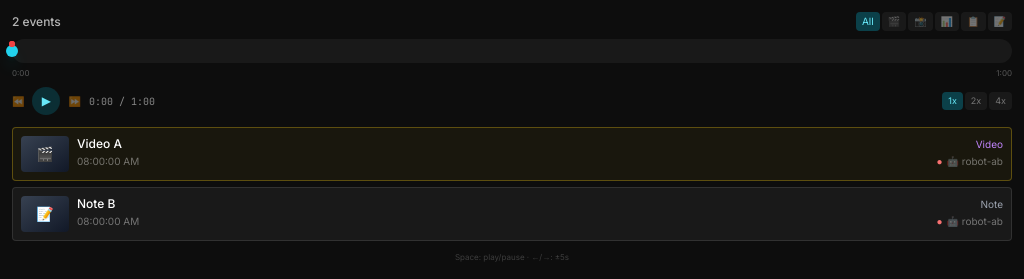
Test: ReplayReviewModule › filters by type
// Click snapshot filter (📝 for note)
Click the button "📝": x=1000, y=22 [988, 12, 1012, 31]
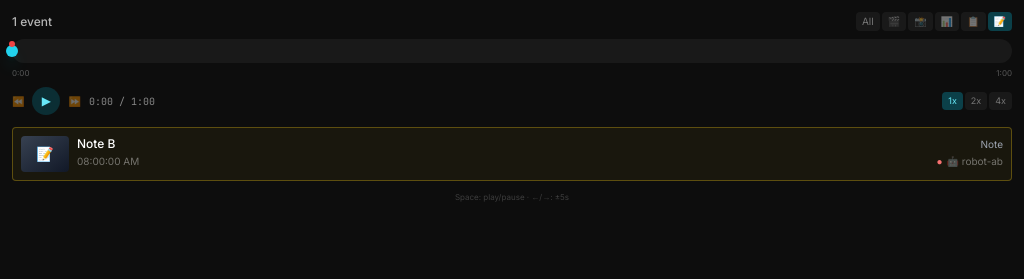
Expected: the text "Note B" is shown, [77, 136, 115, 152]
Now the button "Video A" is gone
